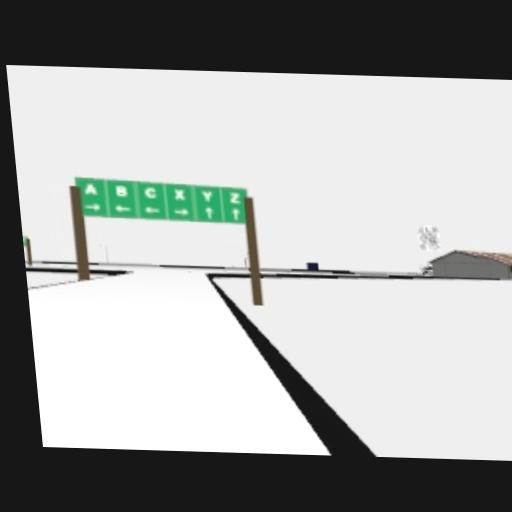A: (84, 183, 100, 197)
B: (115, 184, 129, 198)
C: (142, 186, 160, 200)
Left: (114, 204, 132, 214), (144, 206, 162, 216)
Right: (174, 208, 192, 218), (82, 204, 101, 212)
Straight: (230, 206, 242, 223), (203, 205, 215, 220)
X: (172, 188, 186, 202)
Y: (200, 189, 215, 204)
Z: (226, 190, 243, 205)
